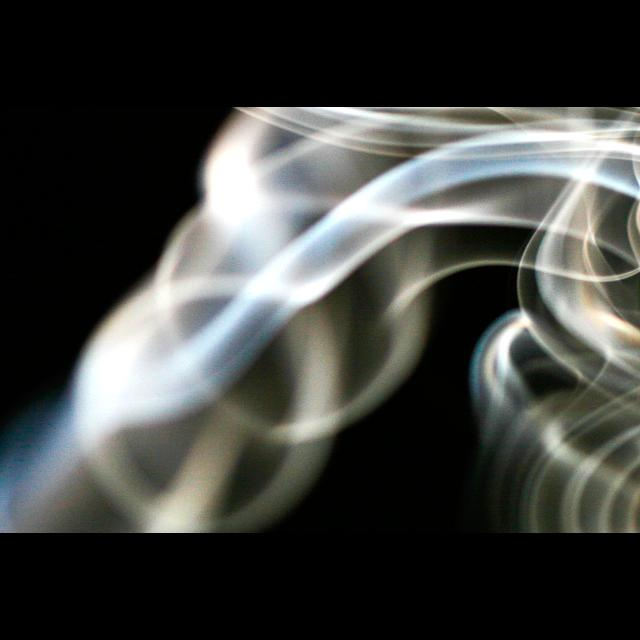smoke: (155, 107, 420, 286), (290, 306, 410, 421)
